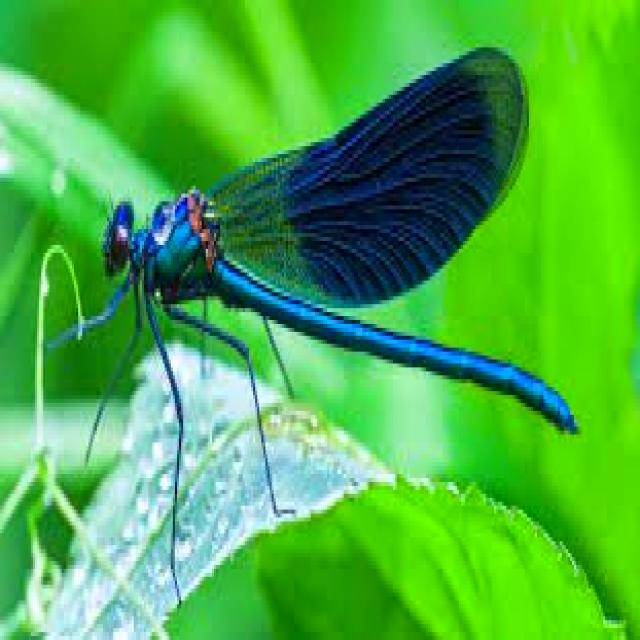dragonfly: (47, 47, 576, 600)
